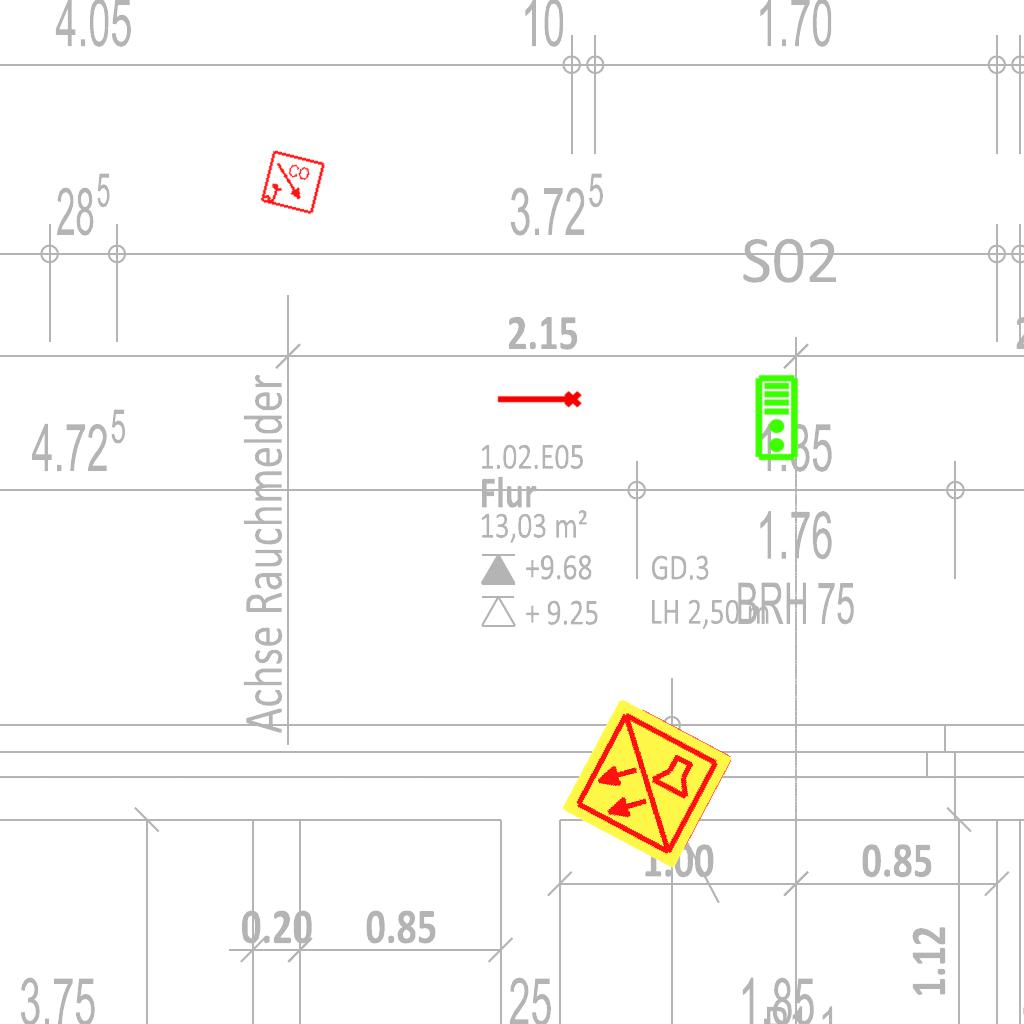ASR_Ansaugoeffnung: (495, 389, 583, 412)
Gegensprechanlage_mit_Video: (754, 374, 801, 462)
OKW_Multisensormelder_(Kombination_optischer_Rauch-Kahlenmonoxid_Waerme-Melder): (557, 693, 737, 873)
ROA_Rauchmelder_optisch_mit_Signalgeber_(Sockelsirene): (259, 149, 327, 217)
